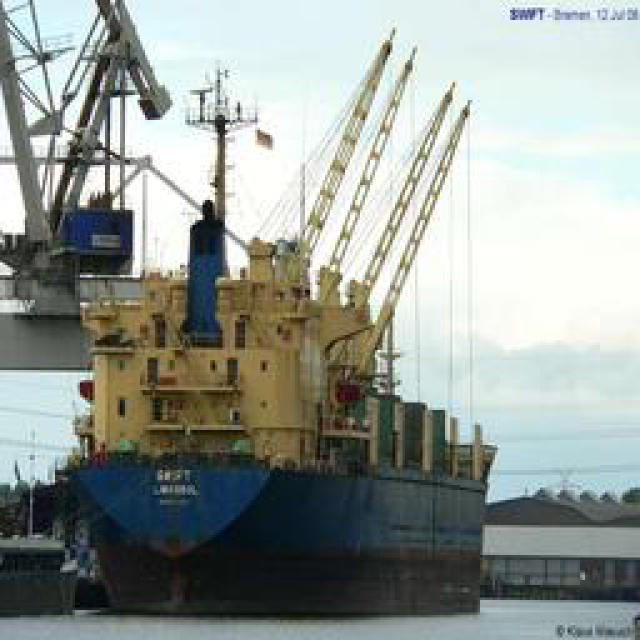Ship: (37, 20, 505, 628)
